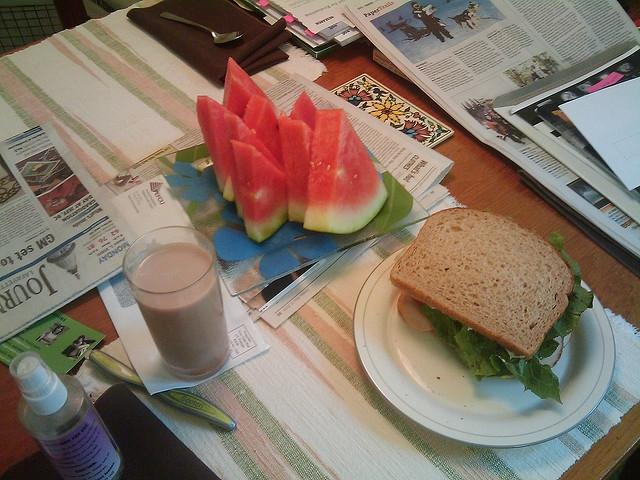lettuce: (542, 232, 593, 344), (418, 304, 471, 369), (475, 365, 515, 381), (538, 339, 560, 358), (506, 216, 514, 220)
watermelon: (304, 110, 390, 234), (222, 94, 284, 202), (224, 112, 284, 220), (230, 139, 290, 244), (196, 96, 236, 194), (222, 57, 282, 120), (278, 119, 314, 223), (290, 90, 317, 131)
